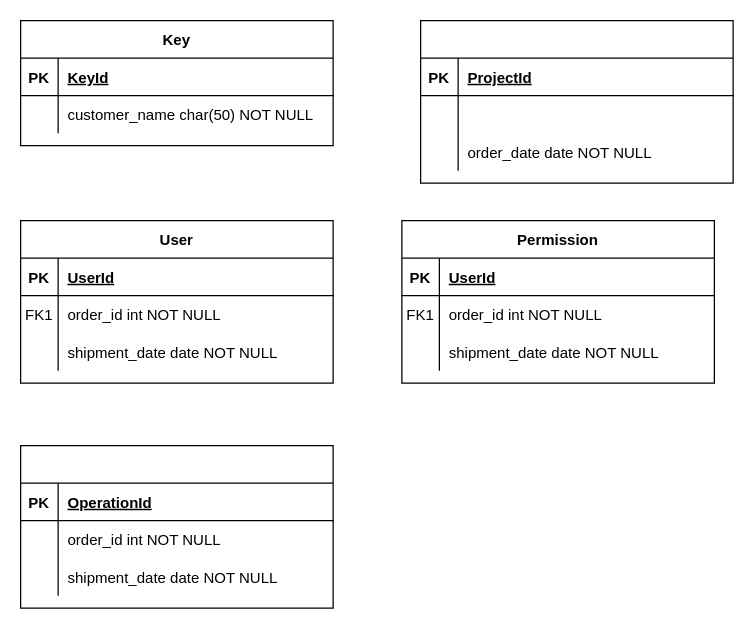
Image size: 754x629. Some labels were removed from this diagram. The box of each missing label's shape, as (x1, y1, x2, y2) in pixels:
OperationLog: (19, 444, 333, 608)
Projects: (419, 19, 733, 183)
